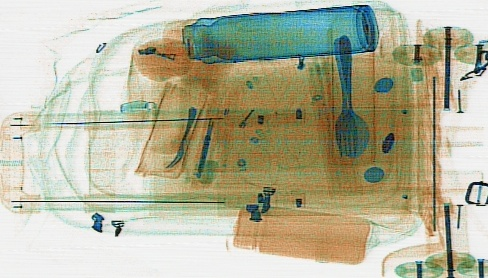scissors: (197, 96, 221, 172)
